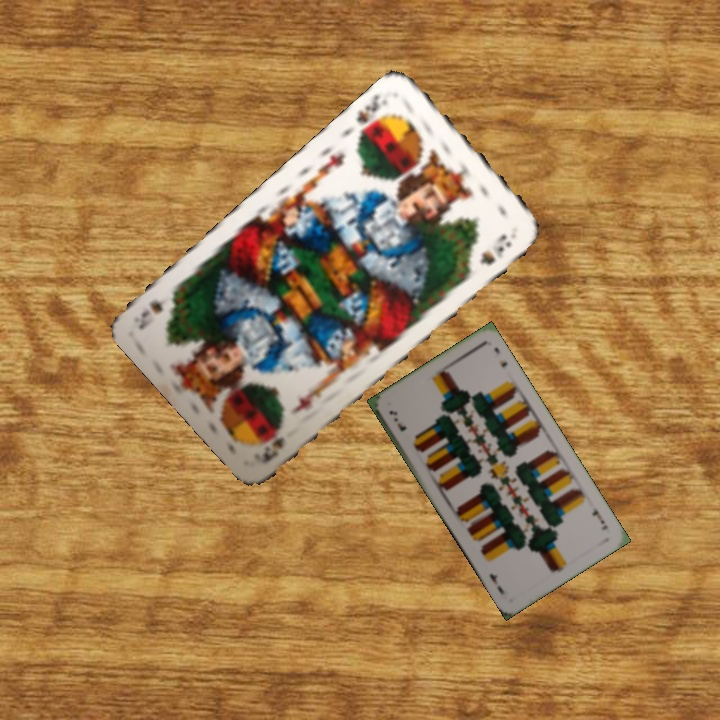E7: (385, 406, 409, 434), (588, 504, 610, 533)
SK: (352, 89, 391, 140), (255, 432, 287, 467)
